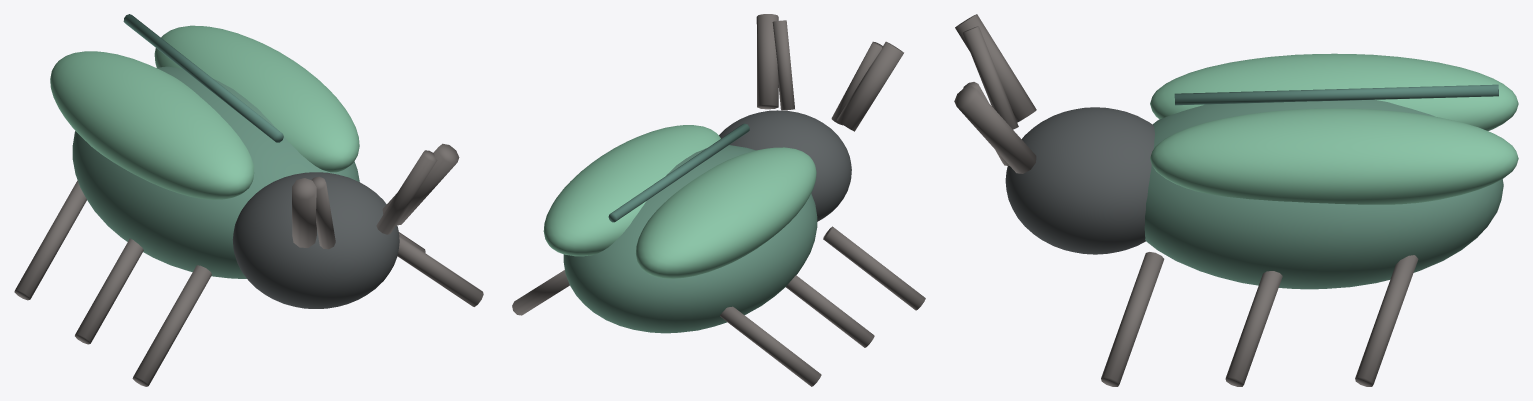
The model's file is beetle-stag-beetle.glb.
3 views of the same model, side by side, from view 1: azimuth 30°, elevation 25°; view 2: azimuth 150°, elevation 25°; view 3: azimuth 270°, elevation 25° (orthographic). The views are drawn at different scales.
Visible parts, largest first — view 1: material_3c865c, material_244a39, material_191c1d, material_2d2927, material_1b3c32; view 2: material_3c865c, material_244a39, material_2d2927, material_191c1d, material_1b3c32; view 3: material_3c865c, material_244a39, material_191c1d, material_2d2927, material_1b3c32.
Boxes of the visible parts, x1,y1,x2,y2 form: material_3c865c: (50,25,359,199); material_244a39: (72,66,359,278); material_191c1d: (232,172,399,308); material_2d2927: (14,143,483,386); material_1b3c32: (123,14,283,142); material_3c865c: (543,125,816,278); material_244a39: (563,145,817,333); material_2d2927: (512,14,925,386); material_191c1d: (719,110,851,221); material_1b3c32: (608,123,749,222); material_3c865c: (1150,53,1518,204); material_244a39: (1144,99,1503,289); material_191c1d: (1005,107,1154,254); material_2d2927: (954,14,1418,386); material_1b3c32: (1174,84,1498,105).
Size of the model in its own units: 0.8671 by 0.5522 by 1.13.
